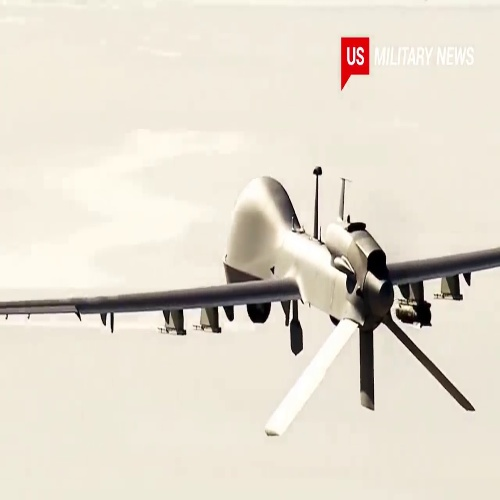uav: (2, 164, 499, 437)
